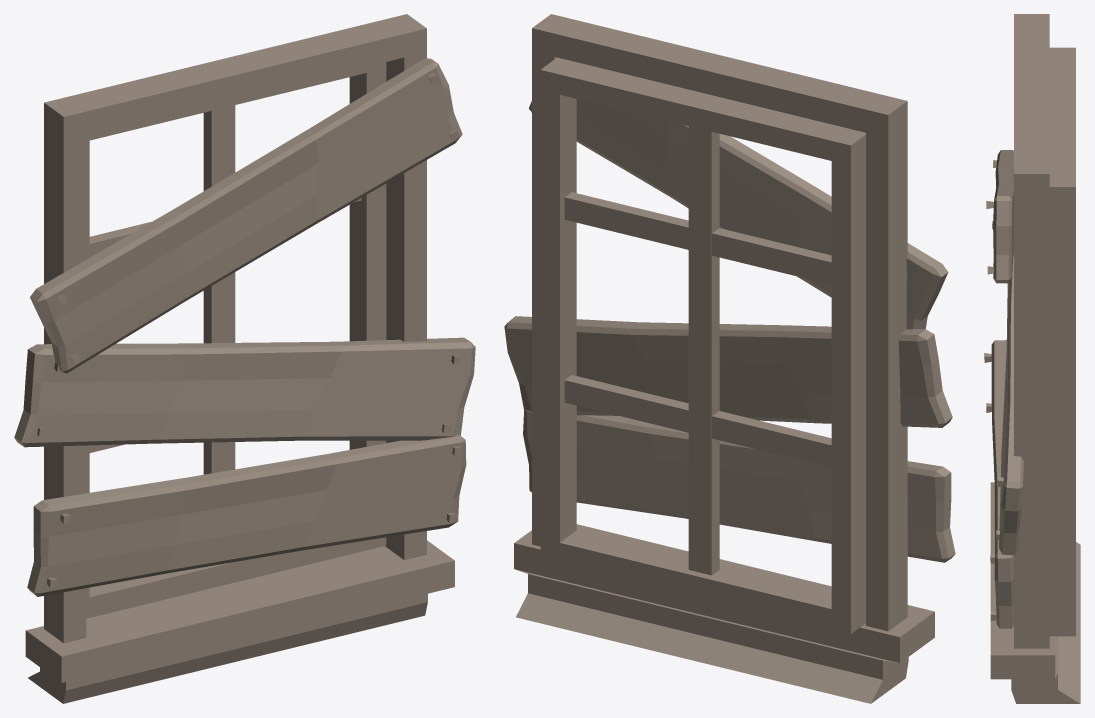
Rendered from WindowBoarded.fbx.
3 renders of one model, left to right at view 1: azimuth 30°, elevation 25°; view 2: azimuth 150°, elevation 25°; view 3: azimuth 270°, elevation 25°, orthographic. The views are drawn at different scales.
Parts seen in each view (by area): view 1: WindowBoarded; view 2: WindowBoarded; view 3: WindowBoarded.
Boxes of the visible parts, bbox=[...] form: WindowBoarded: bbox=[14, 14, 475, 703]; WindowBoarded: bbox=[504, 14, 955, 703]; WindowBoarded: bbox=[984, 14, 1080, 703].
Size of the model in its own units: 236 by 293 by 48.05.
